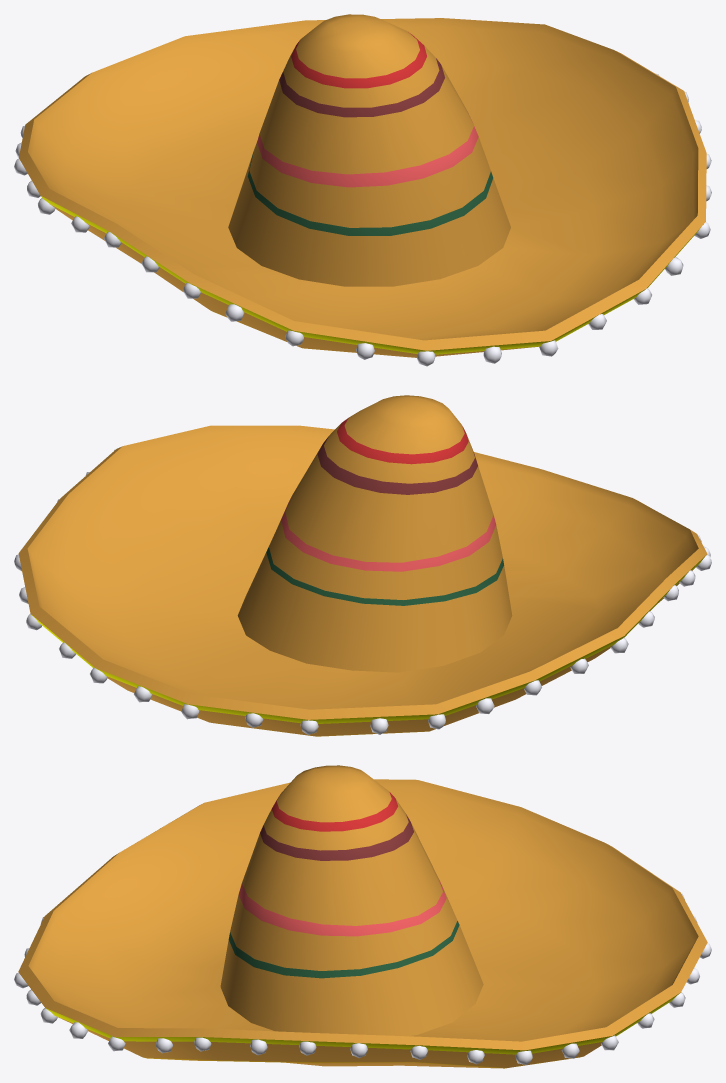
File: Hat_16_03.fbx
The picture shows the model from 3 angles, top to bottom: view 1: azimuth 30°, elevation 25°; view 2: azimuth 150°, elevation 25°; view 3: azimuth 270°, elevation 25°; orthographic projection. The views are drawn at different scales.
Visible parts, largest first — view 1: Hat_16_03; view 2: Hat_16_03; view 3: Hat_16_03.
Part boxes in pixels (x1,y1,x2,y2): Hat_16_03: (14, 14, 711, 366); Hat_16_03: (14, 395, 711, 736); Hat_16_03: (14, 765, 711, 1068).
Size of the model in its own units: 87.01 by 33.9 by 95.64.
